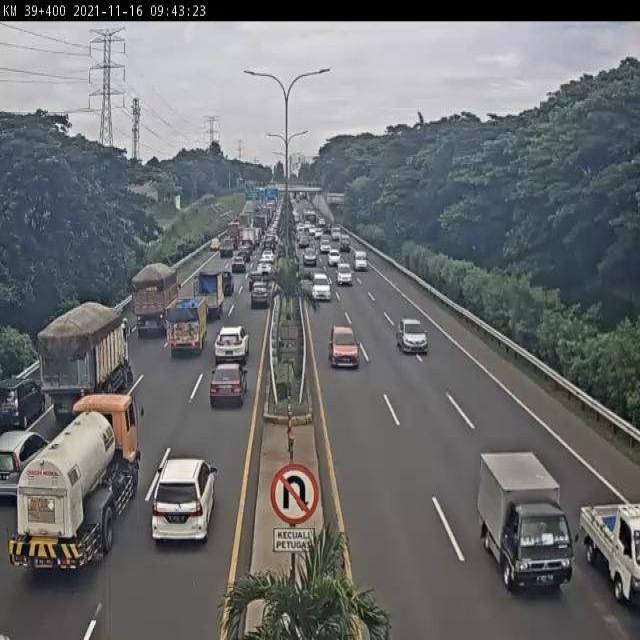car: (576, 495, 640, 617), (152, 456, 218, 547), (0, 421, 52, 504), (3, 369, 57, 431), (207, 320, 253, 376), (208, 362, 249, 409), (328, 321, 359, 371), (396, 318, 428, 358), (245, 276, 275, 316), (308, 271, 332, 301), (335, 260, 354, 289), (246, 267, 267, 293), (218, 270, 234, 302), (229, 251, 248, 276), (351, 251, 370, 276), (254, 261, 272, 283), (208, 234, 224, 254)
small truck: (470, 445, 579, 595)
truck-l-: (39, 302, 133, 429), (131, 262, 183, 338)
truck-m-: (6, 392, 145, 573), (167, 295, 210, 356), (194, 272, 224, 317)
